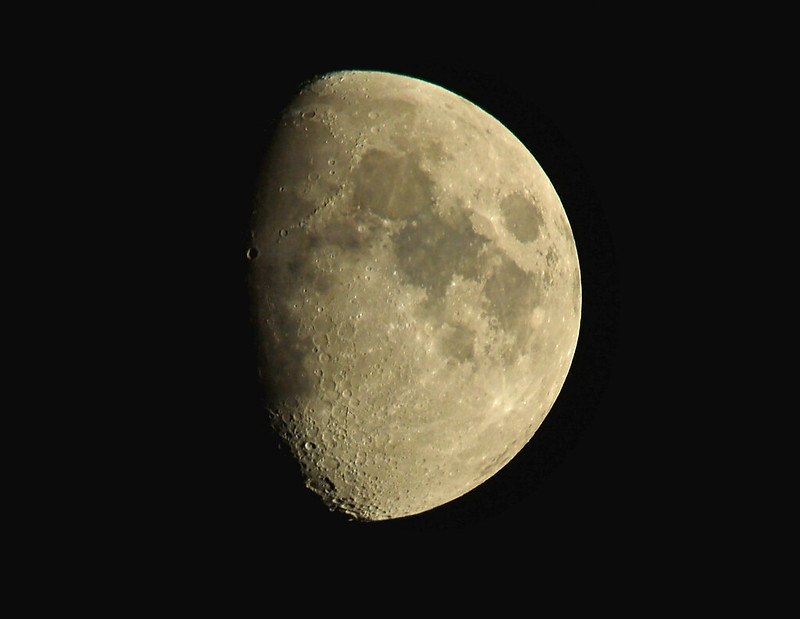crater: (335, 316, 367, 346), (298, 104, 329, 134), (242, 240, 267, 270), (359, 107, 395, 124), (299, 167, 328, 187), (432, 100, 464, 117), (276, 221, 294, 244), (482, 208, 501, 227), (324, 153, 346, 169), (448, 273, 464, 291), (360, 261, 376, 274), (558, 312, 569, 328)
